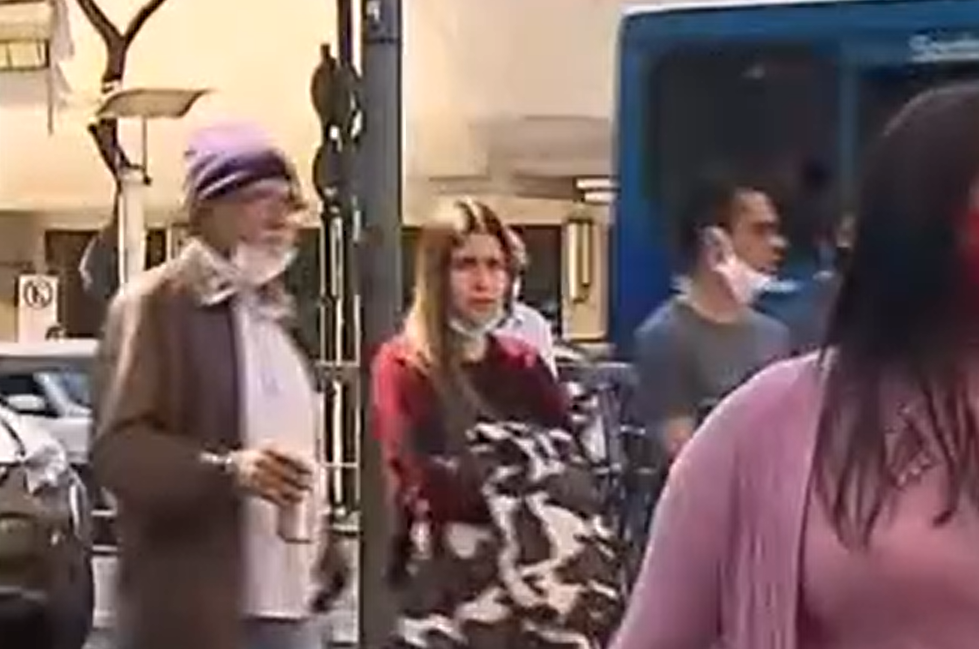mask_weared_incorrect: (700, 187, 792, 311), (429, 229, 519, 339)
